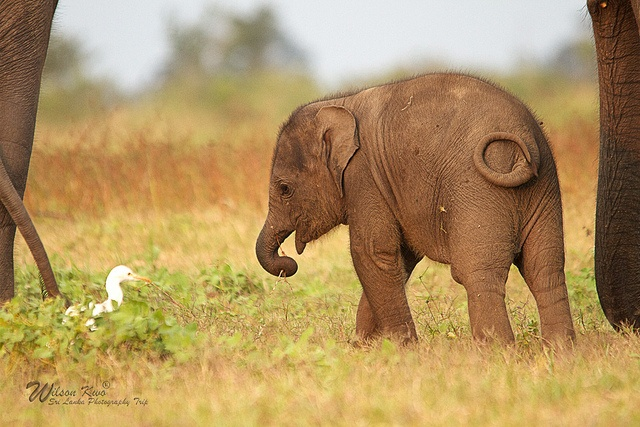elephant: (256, 71, 580, 349)
